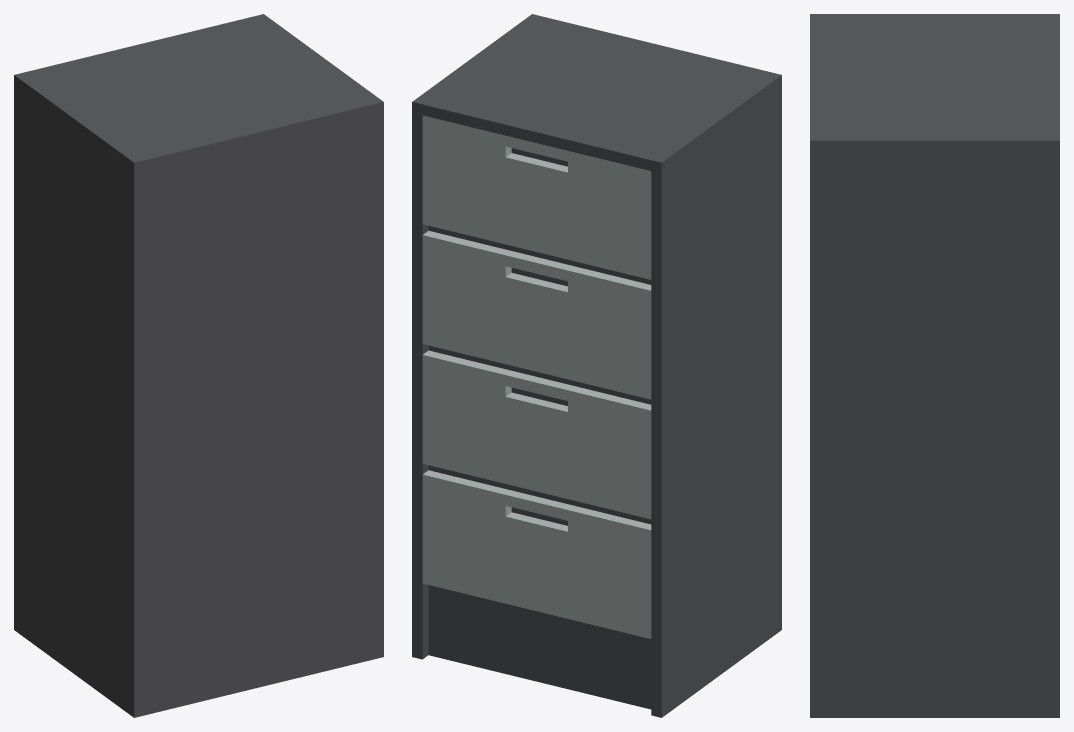
The model's file is file_cabinet_02.glb.
The picture shows the model from 3 angles, left to right: view 1: azimuth 30°, elevation 25°; view 2: azimuth 150°, elevation 25°; view 3: azimuth 270°, elevation 25°; orthographic projection. The views are drawn at different scales.
Parts seen in each view (by area): view 1: Untitled; view 2: Untitled; view 3: Untitled.
Part boxes in pixels (x1,y1,x2,y2): Untitled: (14, 14, 383, 717); Untitled: (412, 14, 781, 717); Untitled: (810, 14, 1059, 717).
Size of the model in its own units: 0.72 by 1.53 by 0.6.
1 material, 1 textured.
